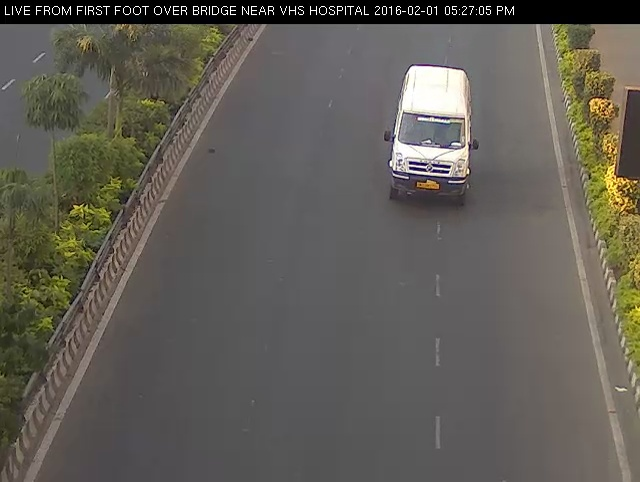Car: (372, 52, 493, 226)
